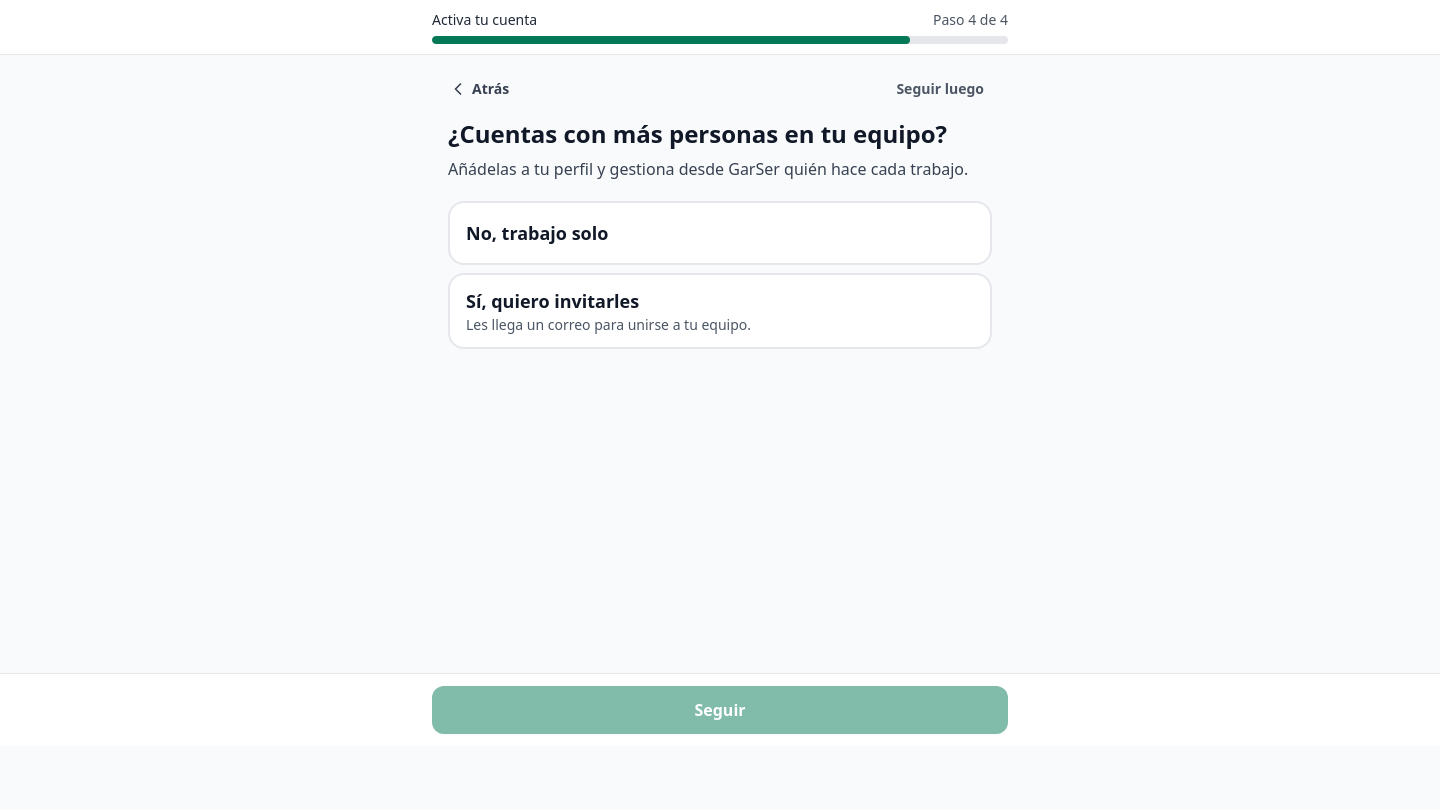
it: Activa tu cuenta (paquete 1.12) › QA-025 · el aviso de error no viaja a otro paso: al volver atrás desaparece
The image size is (1440, 810).
Click the radio button labelled "Sí".
click(553, 301)  # box [448,273,992,349]
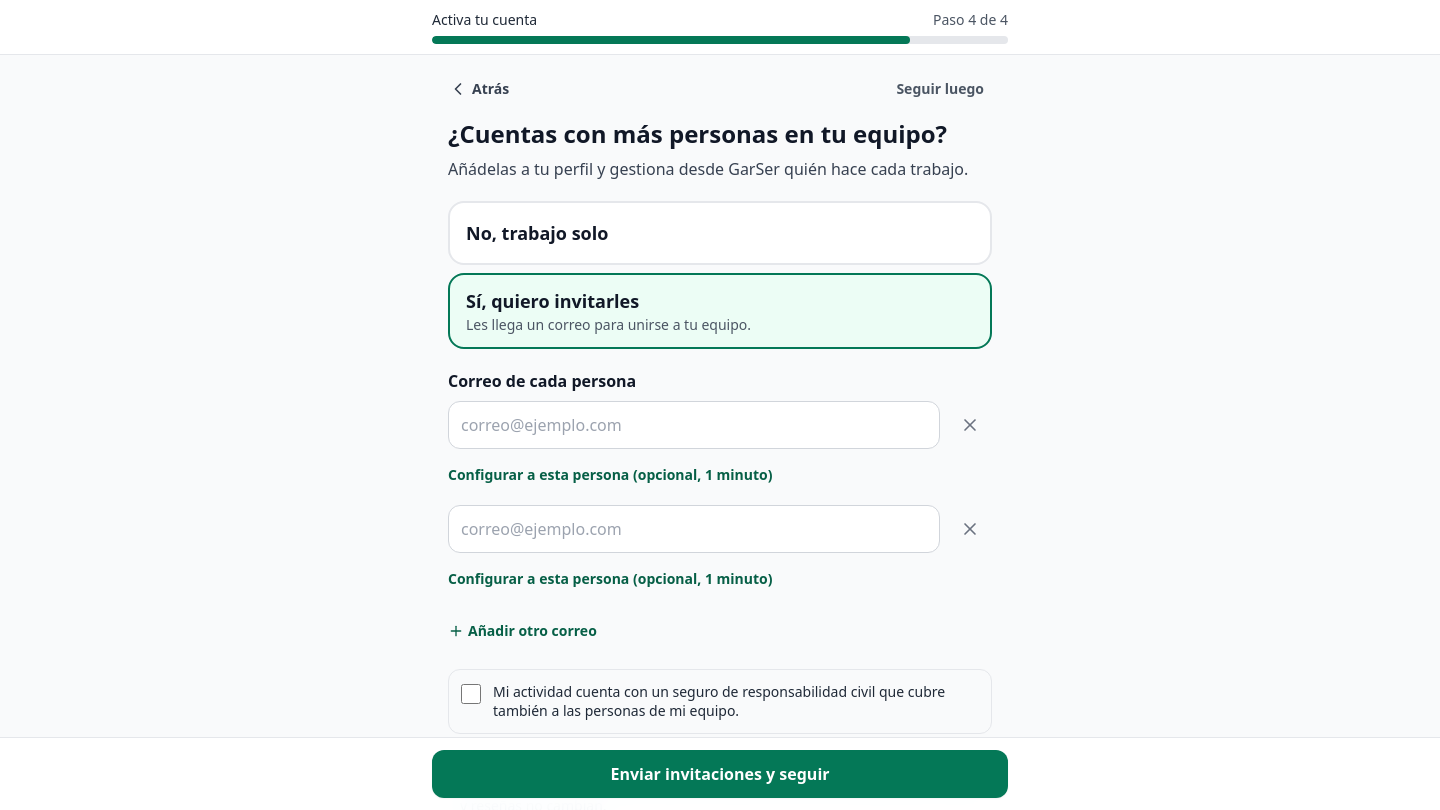
Type "marta@ejemplo.es" into the field named "Correo de la persona 1".
click(694, 425); type("marta@ejemplo.es")  # box [448,401,940,449]
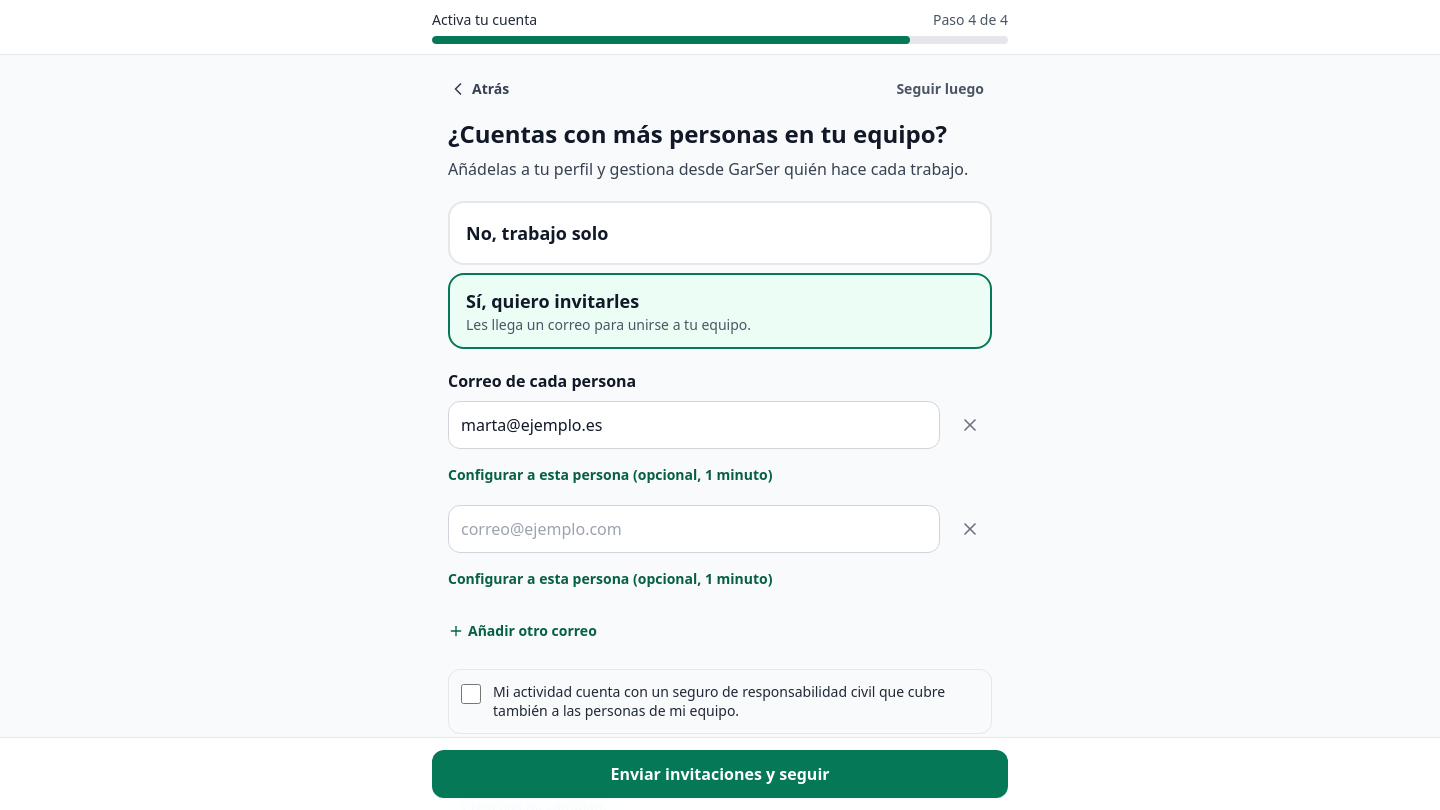
Click the button "Enviar invitaciones y seguir".
click(720, 774)  # box [432,750,1008,798]
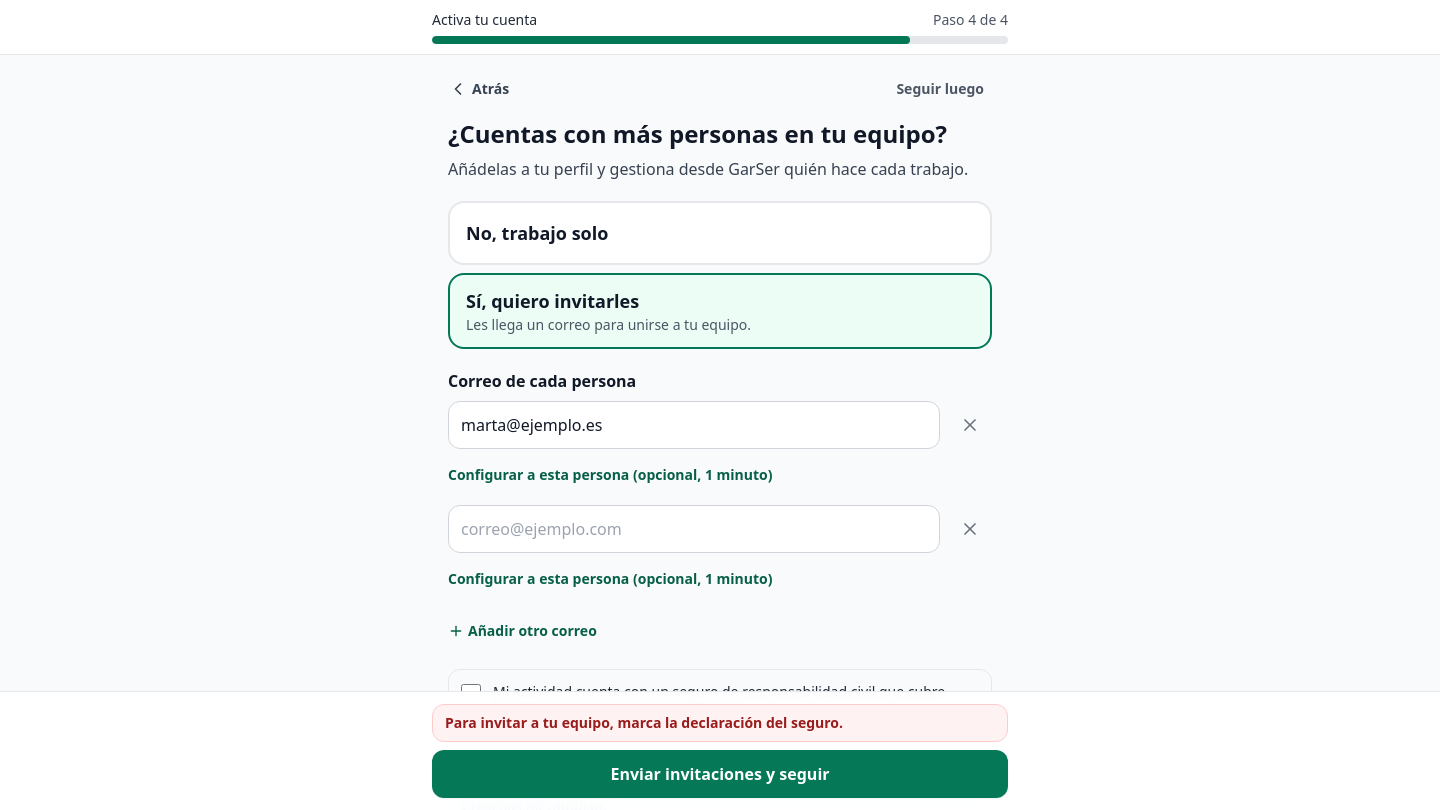
expect the text "Para invitar a tu equipo, marca la declaración del seguro." is shown: met, box [432,704,1008,742]
Click the button "Atrás".
click(479, 89)  # box [440,67,517,111]
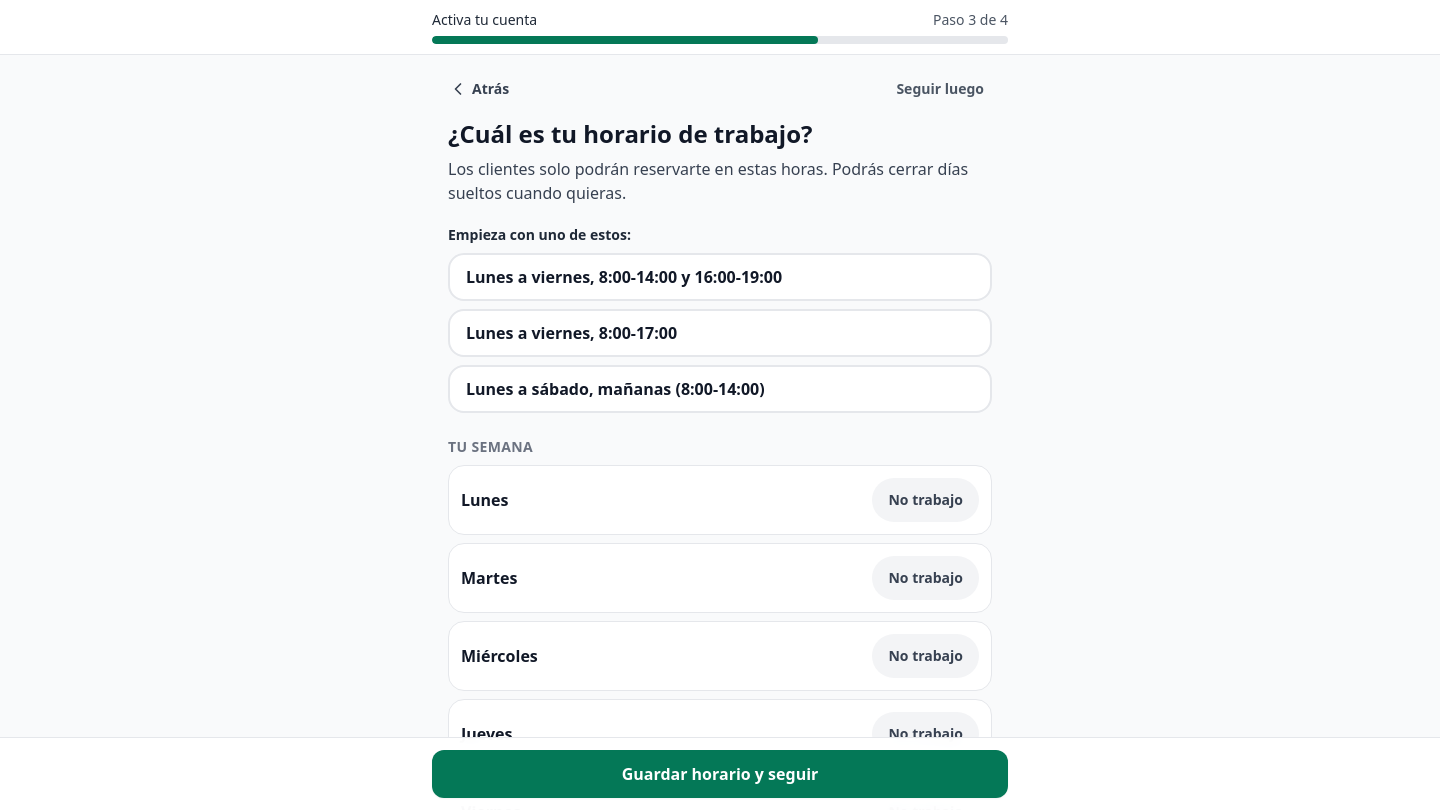
expect the text "Para invitar a tu equipo, marca la declaración del seguro." is gone: met
